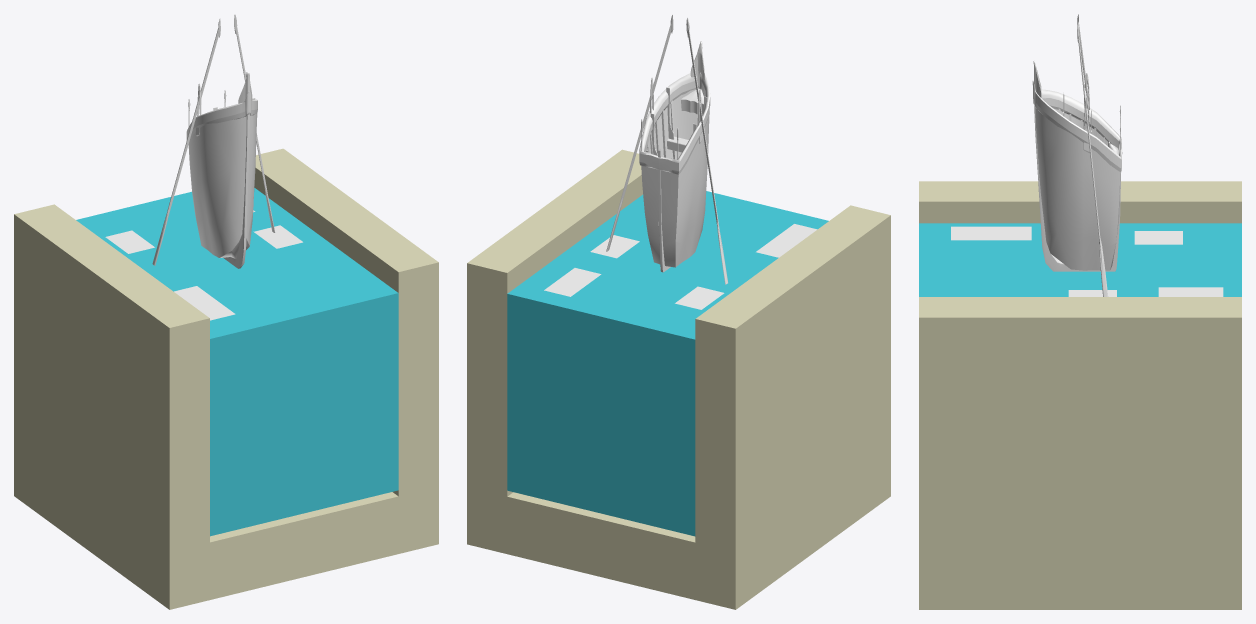
3 views of the same model, side by side, from view 1: azimuth 30°, elevation 25°; view 2: azimuth 150°, elevation 25°; view 3: azimuth 270°, elevation 25° (orthographic). The views are drawn at different scales.
Parts seen in each view (by area): view 1: Cube, Cube.001, Retopo_Cube.006, Plane.003, Plane, Plane.002; view 2: Cube, Cube.001, Retopo_Cube.006, Plane.003, Plane.004, Plane, Plane.002; view 3: Cube, Cube.001, Retopo_Cube.006, Plane.003, Plane, Plane.004.
Part boxes in pixels (<box>): Cube: <box>14,148,438,609</box>; Cube.001: <box>76,188,398,536</box>; Retopo_Cube.006: <box>152,14,275,268</box>; Plane.003: <box>174,286,235,320</box>; Plane: <box>105,230,154,253</box>; Plane.002: <box>253,225,302,248</box>; Cube: <box>467,149,890,609</box>; Cube.001: <box>507,191,828,536</box>; Retopo_Cube.006: <box>606,14,728,284</box>; Plane.003: <box>756,224,817,257</box>; Plane.004: <box>544,268,601,296</box>; Plane: <box>675,286,724,309</box>; Plane.002: <box>590,235,639,258</box>; Cube: <box>919,181,1241,609</box>; Cube.001: <box>919,223,1241,296</box>; Retopo_Cube.006: <box>1032,14,1122,296</box>; Plane.003: <box>951,226,1031,240</box>; Plane: <box>1134,231,1182,244</box>; Plane.004: <box>1158,287,1223,296</box>.
Size of the model in its own units: 2 by 3.58 by 2.
